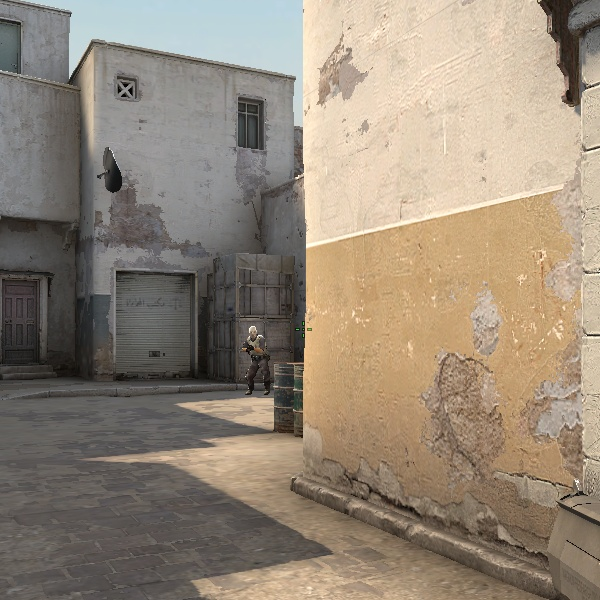t_body: (235, 327, 272, 394)
t_head: (245, 325, 263, 342)
